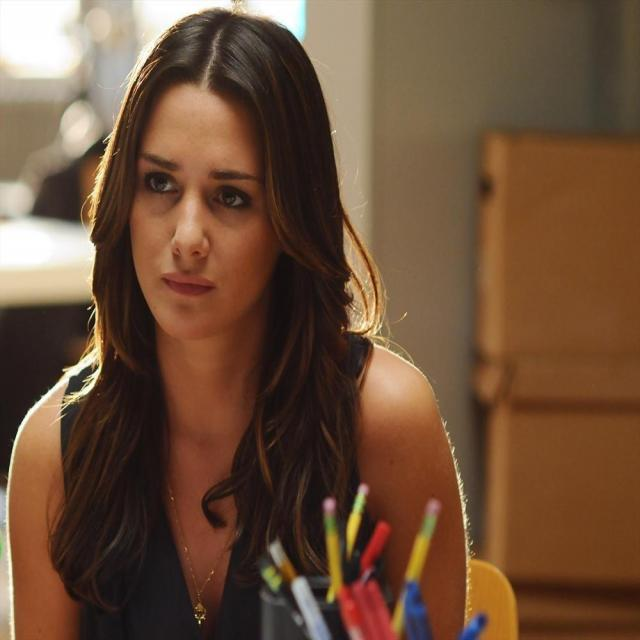live: (116, 65, 295, 349)
